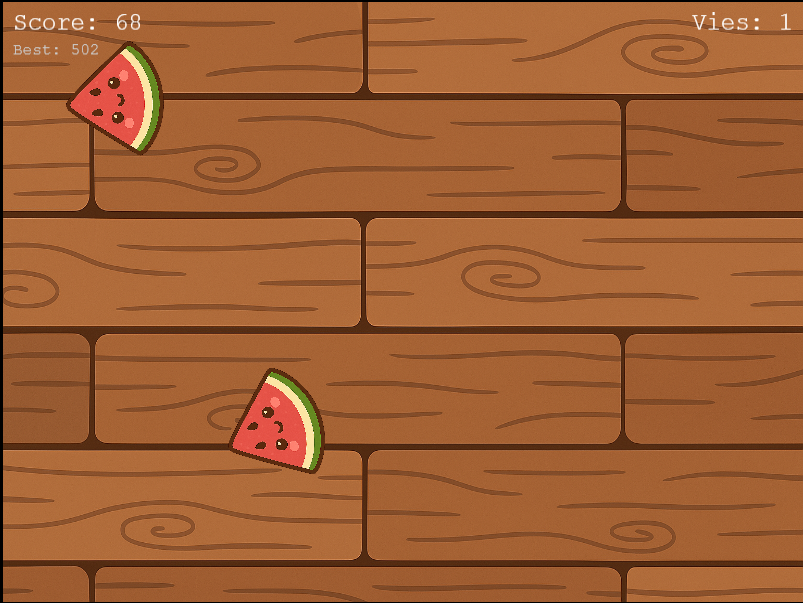fruit: (55, 38, 178, 161), (223, 367, 333, 477)
